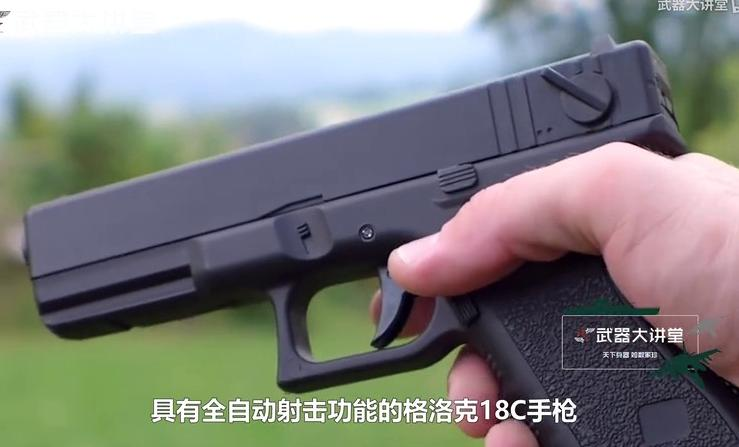gun: (1, 1, 739, 447)
